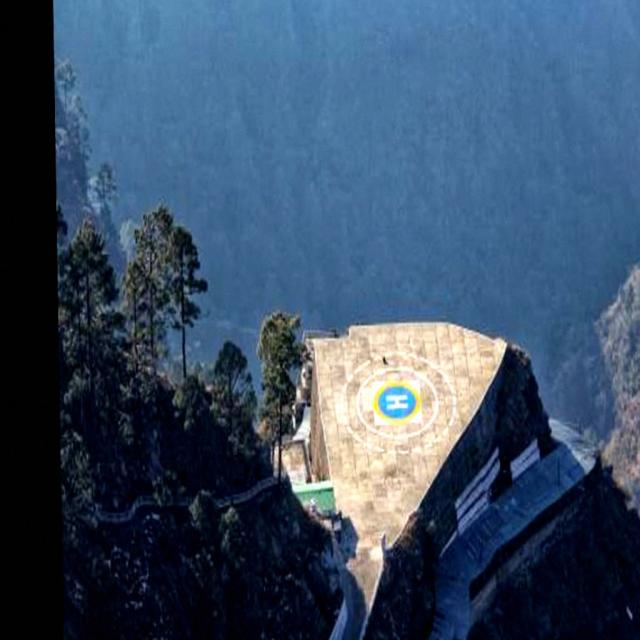helipad: (370, 379, 420, 425)
